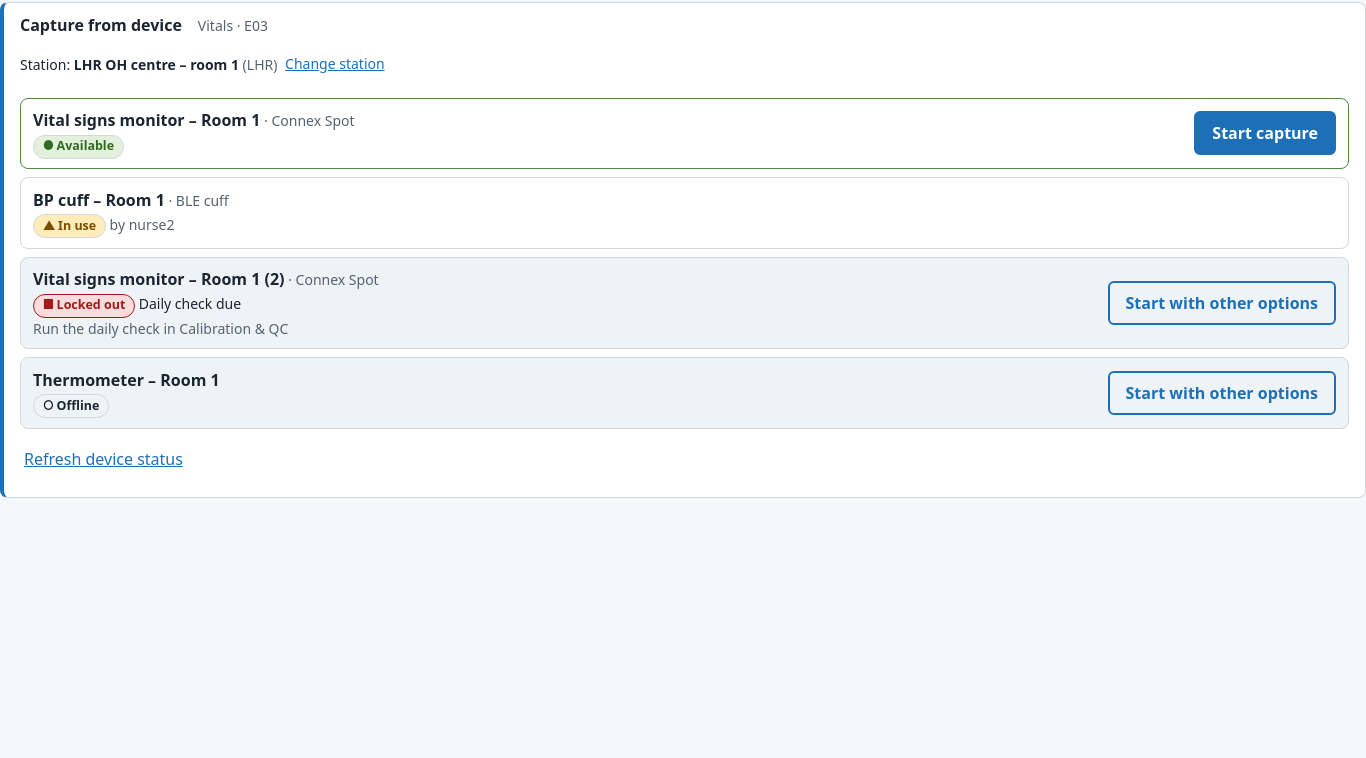
Test case: Capture from device – session state transitions › LISTENING → PREVIEW by polling; a WARN flag must be acknowledged before accept; ACCEPTED shows the path used
Click the button "Start capture".
click(1265, 133)  # box [1194,111,1336,155]
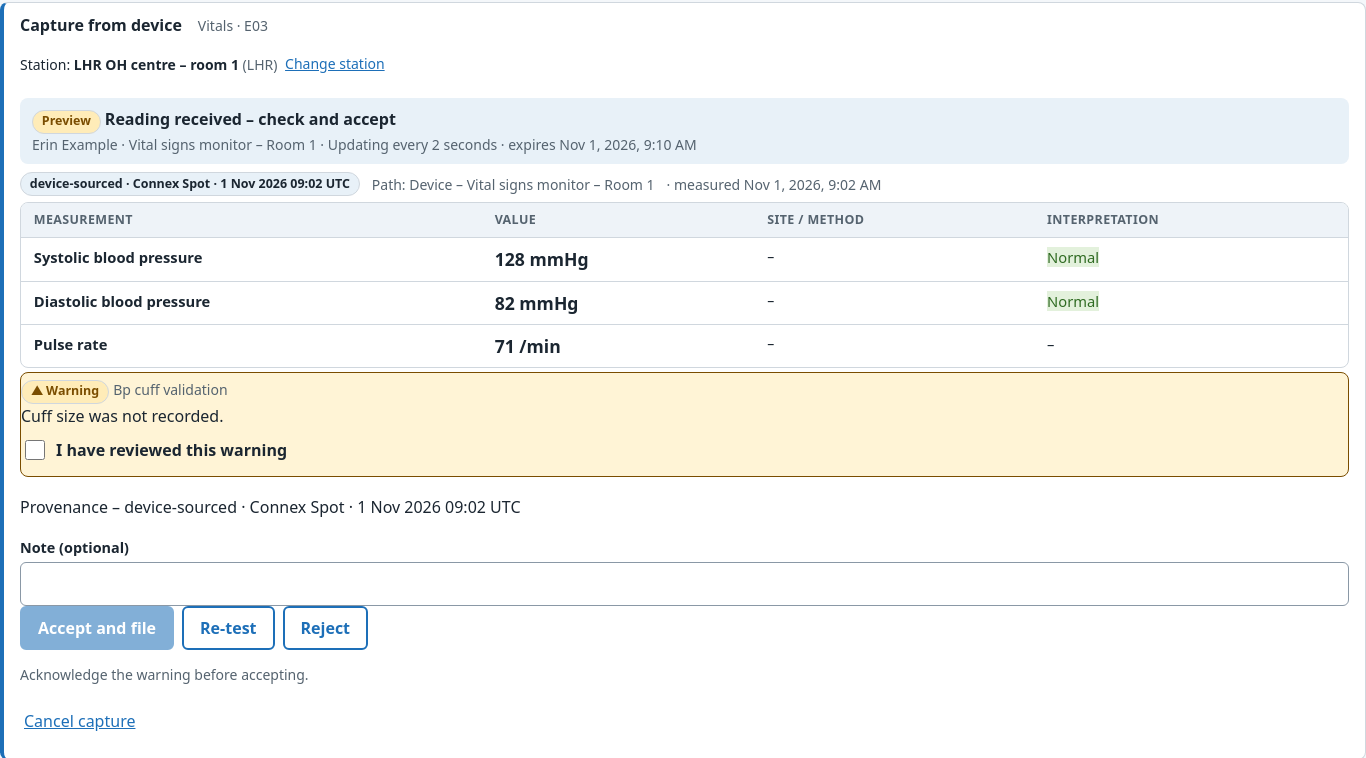
Result: the text "Reading received – check and accept" is shown at [105,108,396,130]
Result: the column heading "Systolic blood pressure" is shown at [21,238,482,281]
Result: the text "128 mmHg" is shown at [482,238,754,281]
Click the checkbox labelled "I have reviewed this warning".
click(35, 450)  # box [25,440,45,460]
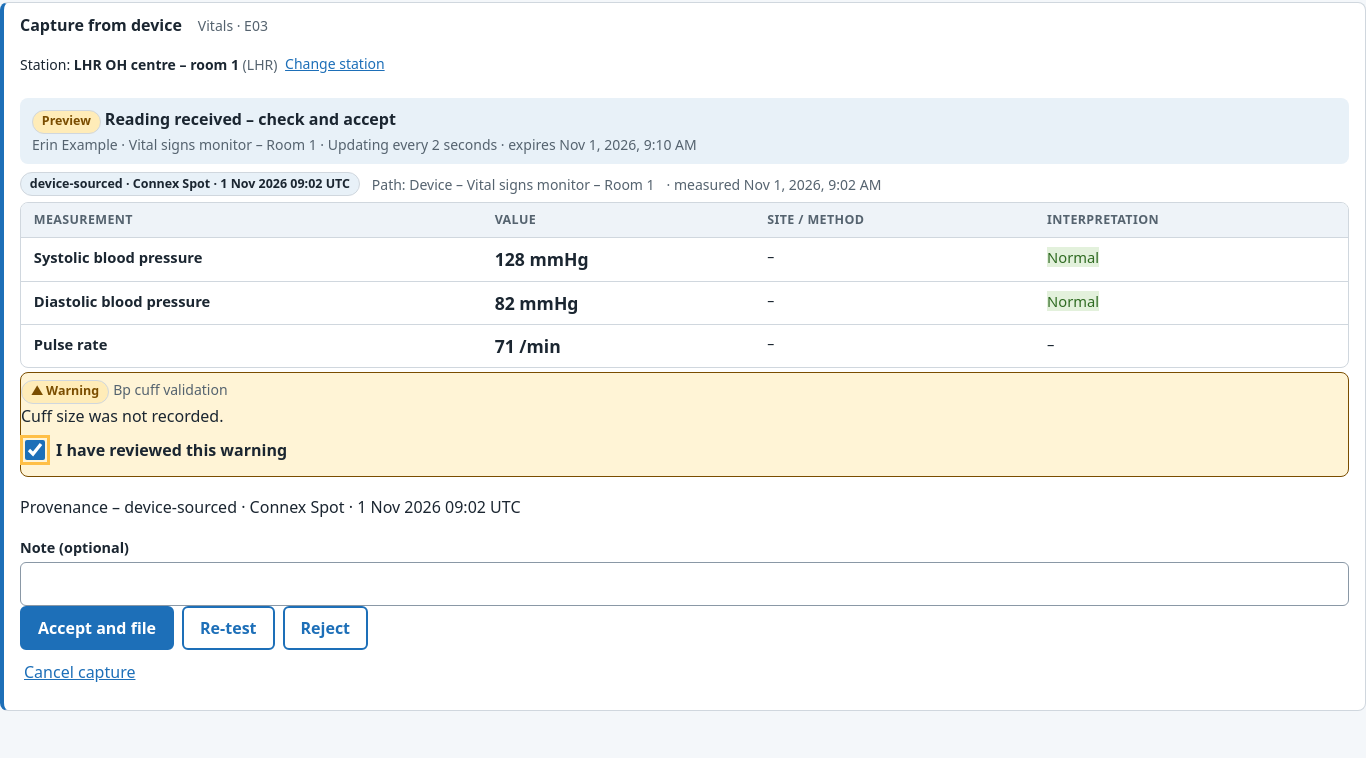
Result: the button "Accept and file" is enabled at [20,606,174,650]
Click the heading "Provenance".
click(270, 507)  # box [20,496,520,518]
(page scrolled)
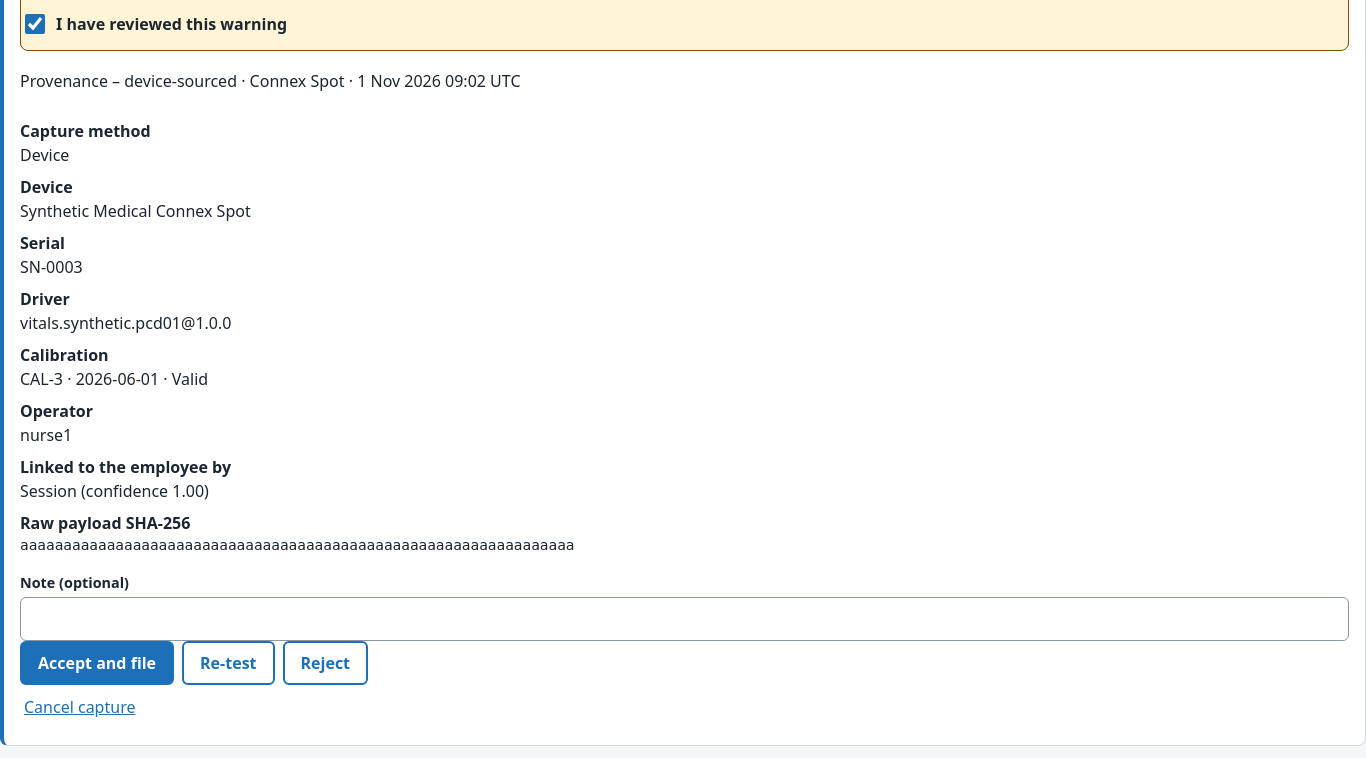
Click the button "Accept and file".
click(97, 663)  # box [20,641,174,685]
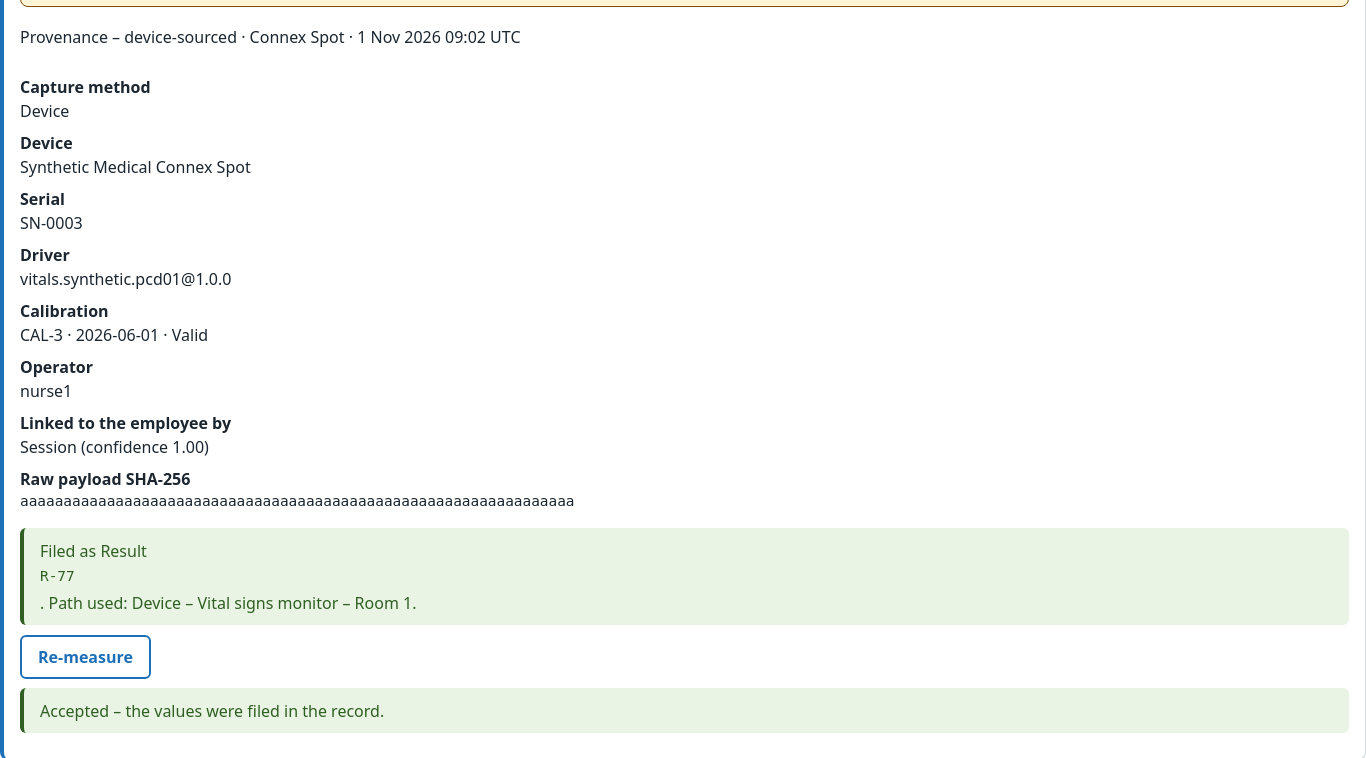
Result: the text "Filed as Result R-77 . Path used: Device – Vital signs monitor – Room 1." is shown at [20,528,1349,625]
Result: the text "R-77" is shown at [40,568,75,584]
Result: the button "Re-measure" is shown at [20,635,151,679]
